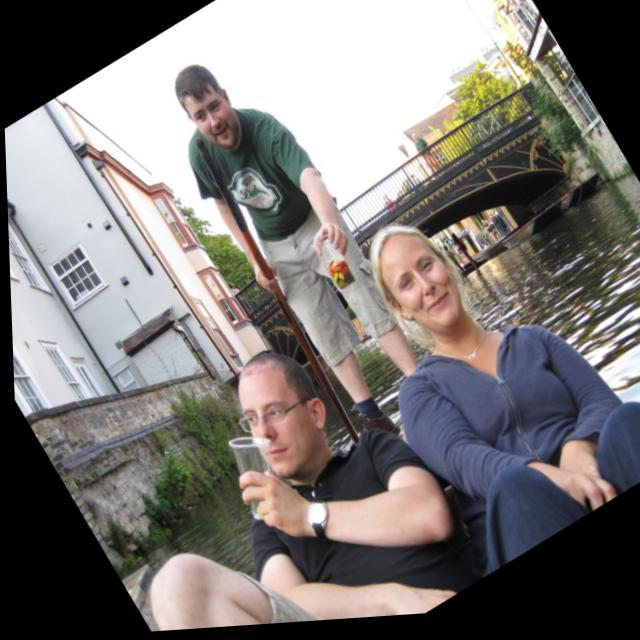Nonhelmet: (226, 333, 338, 489), (367, 221, 470, 335), (165, 56, 252, 154)
